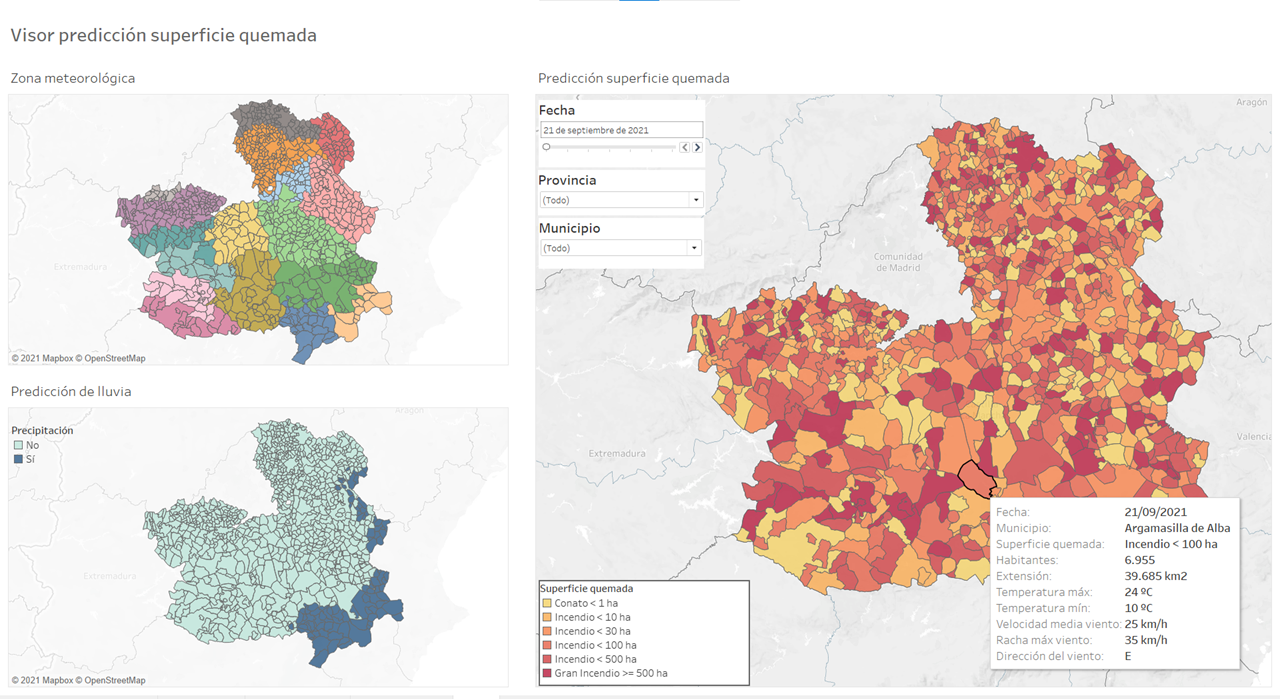

This screenshot's page, from the dashboard's own definition file:
{"tool":"tableau","page":{"name":"Visor","canvas":[1000,1000],"units":"permille","ordinal":0},"visuals":[{"type":"text","box":[5.1,9.9,989.8,82.5]},{"type":"worksheet","title":"Zona meteorológica","mark":"Automatic","box":[5.1,92.4,390.9,448.4]},{"type":"worksheet","title":"Predicción superficie quemada","mark":"Automatic","box":[416.5,92.4,578.4,897.7]},{"type":"filter","title":"Predicción de lluvia","param":"[federated.1fvw2m90x9ahdv1ep3qtl024tgd6].[md:fecha:ok]","box":[420.7,143.7,130.4,96.7]},{"type":"filter","title":"Predicción superficie quemada","param":"[federated.1fvw2m90x9ahdv1ep3qtl024tgd6].[none:provincia:nk]","box":[420.1,244.1,131.1,65.7]},{"type":"filter","title":"Predicción superficie quemada","param":"[federated.1fvw2m90x9ahdv1ep3qtl024tgd6].[none:municipio:nk]","box":[418.8,313.5,129.2,73.1]},{"type":"worksheet","title":"Predicción de lluvia","mark":"Automatic","box":[5.1,540.8,390.9,449.3]},{"type":"legend","title":"Predicción de lluvia","param":"[federated.1fvw2m90x9ahdv1ep3qtl024tgd6].[none:prec:ok]","box":[9,608.4,136.8,97.9]},{"type":"legend","title":"Predicción superficie quemada","param":"[federated.1fvw2m90x9ahdv1ep3qtl024tgd6].[none:superficie_quemada:nk]","box":[420.7,834,165,152.4]}]}

Visuals, with their boxes on the dashboard's canvas, which has no fixed pixel size, in thousandths of its width and height (x1, y1, x2, y2). These are canvas units, not pixel positions in the 1280x699 screenshot, which may show the page scaled, cropped or inside an application window:
text: (5, 10, 995, 92)
"Zona meteorológica" worksheet: (5, 92, 396, 541)
"Predicción superficie quemada" worksheet: (416, 92, 995, 990)
"Predicción de lluvia" filter: (421, 144, 551, 240)
"Predicción superficie quemada" filter: (420, 244, 551, 310)
"Predicción superficie quemada" filter: (419, 314, 548, 387)
"Predicción de lluvia" worksheet: (5, 541, 396, 990)
"Predicción de lluvia" legend: (9, 608, 146, 706)
"Predicción superficie quemada" legend: (421, 834, 586, 986)
